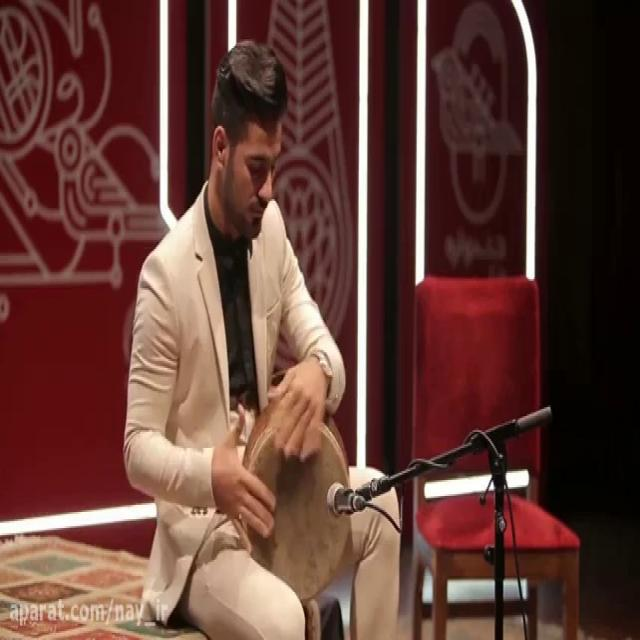Tombak: (233, 389, 358, 603)
